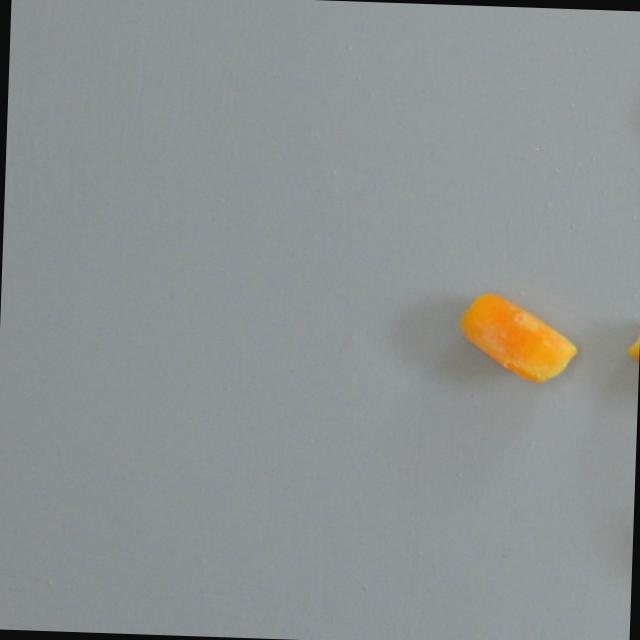pelicula: (450, 288, 581, 386), (624, 312, 640, 398)
